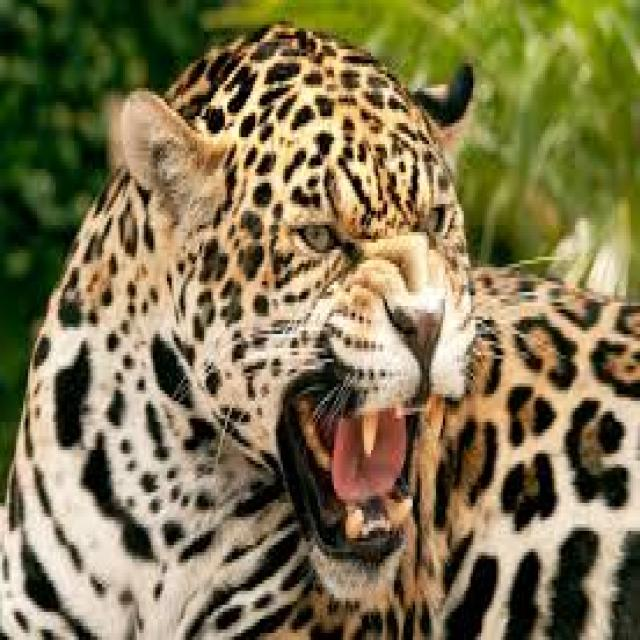Jaguar: (7, 21, 640, 640)
